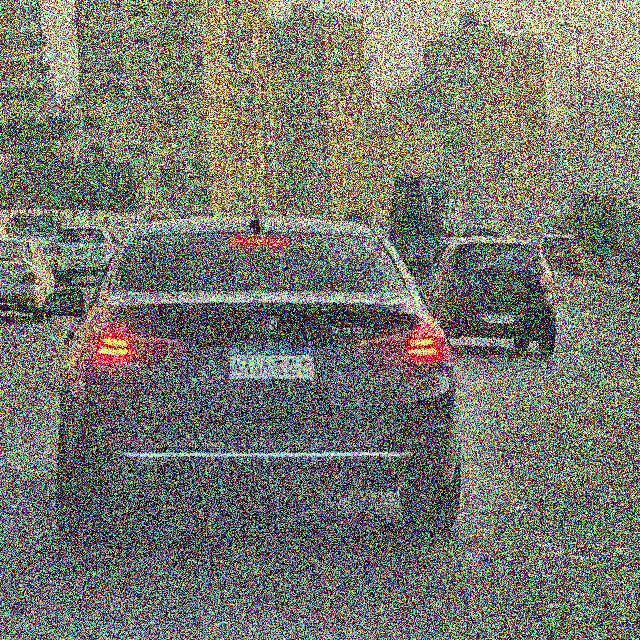License Plate: (229, 338, 316, 383)
